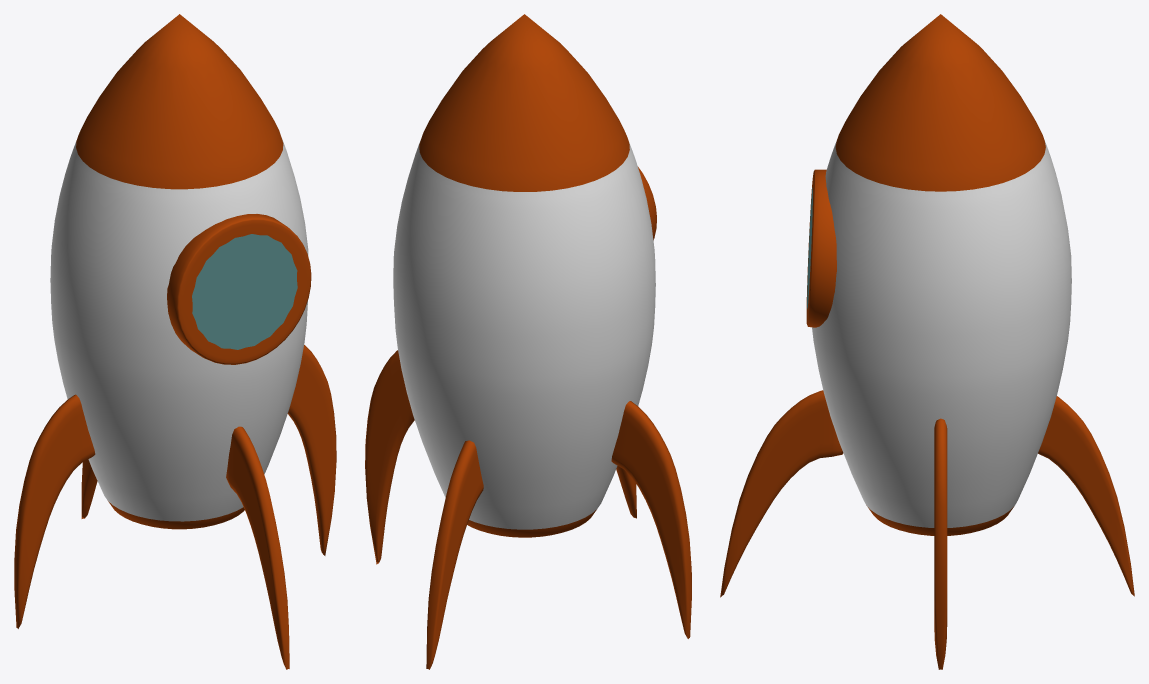
Rendered from rocket.fbx.
3 renders of one model, left to right at view 1: azimuth 30°, elevation 25°; view 2: azimuth 150°, elevation 25°; view 3: azimuth 270°, elevation 25°, orthographic.
Parts seen in each view (by area): view 1: polySurface6; view 2: polySurface6; view 3: polySurface6.
Boxes of the visible parts, x1=… form: polySurface6: x1=14, y1=14, x2=336, y2=669; polySurface6: x1=365, y1=14, x2=691, y2=669; polySurface6: x1=720, y1=14, x2=1134, y2=669.
Size of the model in its own units: 4.27 by 7.39 by 4.75.
